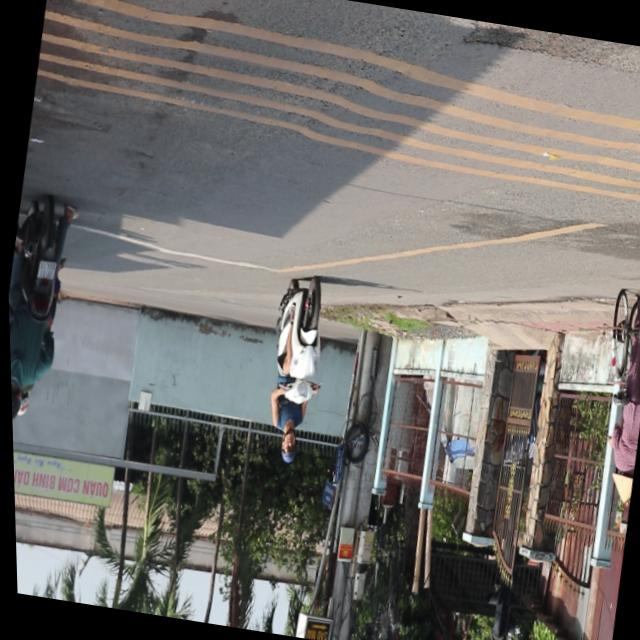helmet: (275, 432, 297, 468), (9, 385, 24, 428)
licenseplate: (5, 194, 83, 431), (250, 272, 339, 470)
nohelmet: (36, 260, 55, 282)
